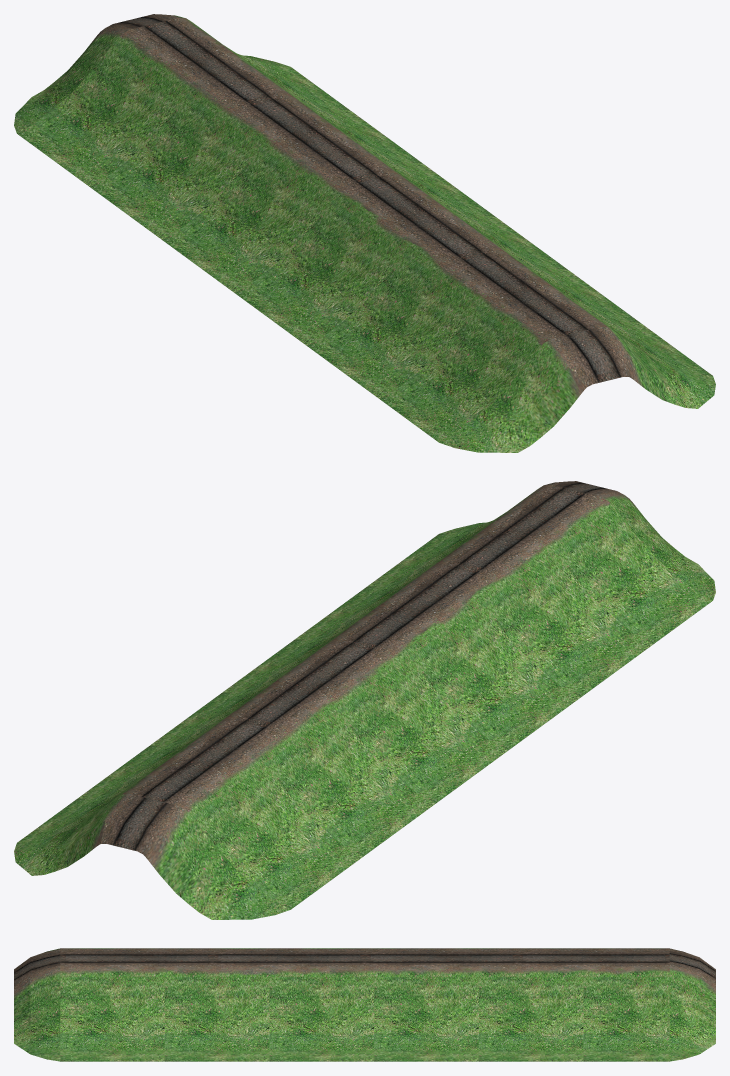
The model's file is 1nasip_TSM_nasip_TSM_1.gltf.
The picture shows the model from 3 angles, top to bottom: view 1: azimuth 30°, elevation 25°; view 2: azimuth 150°, elevation 25°; view 3: azimuth 270°, elevation 25°; orthographic projection. The views are drawn at different scales.
Bounding box in the file's own units: 37.47 × 10.02 × 115.
1 material, 1 textured.
